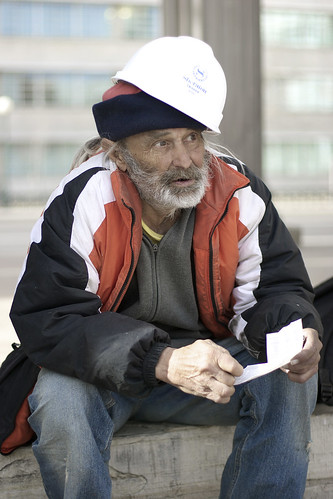person hardhat: (22, 43, 315, 499)
